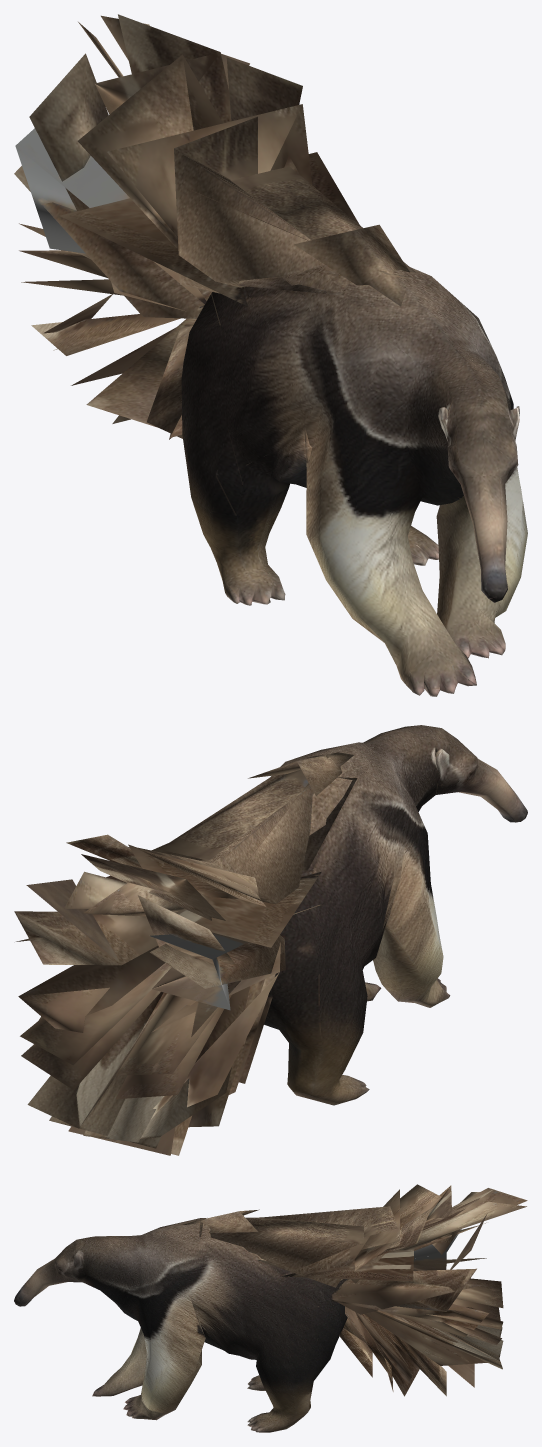
Rendered from tamandua_bandeira_med.glb.
The picture shows the model from 3 angles, top to bottom: view 1: azimuth 30°, elevation 25°; view 2: azimuth 150°, elevation 25°; view 3: azimuth 270°, elevation 25°; orthographic projection. The views are drawn at different scales.
Size of the model in its own units: 0.2969 by 0.4487 by 0.9595.
1 material, 1 textured.
